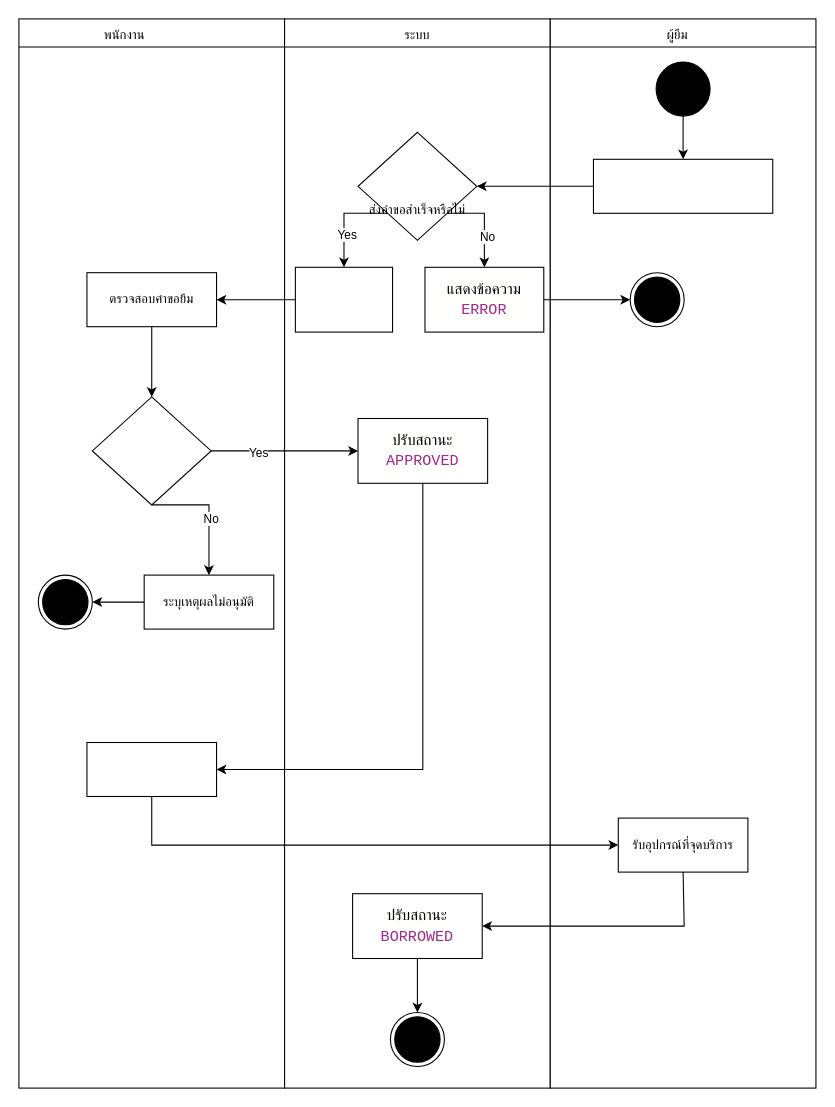
Image size: 835x1107. Some labels were removed from this diagram. Each missing label, with the centre of its shape:
"ปรับสถานะ PENDING" belongs at (343,299).
"ส่งรหัสรับของ" belongs at (151,768).
"อนุมัติหรือไม่" belongs at (151,450).
"เลือกอุปกรณ์และส่งคำขอ" belongs at (682,185).
